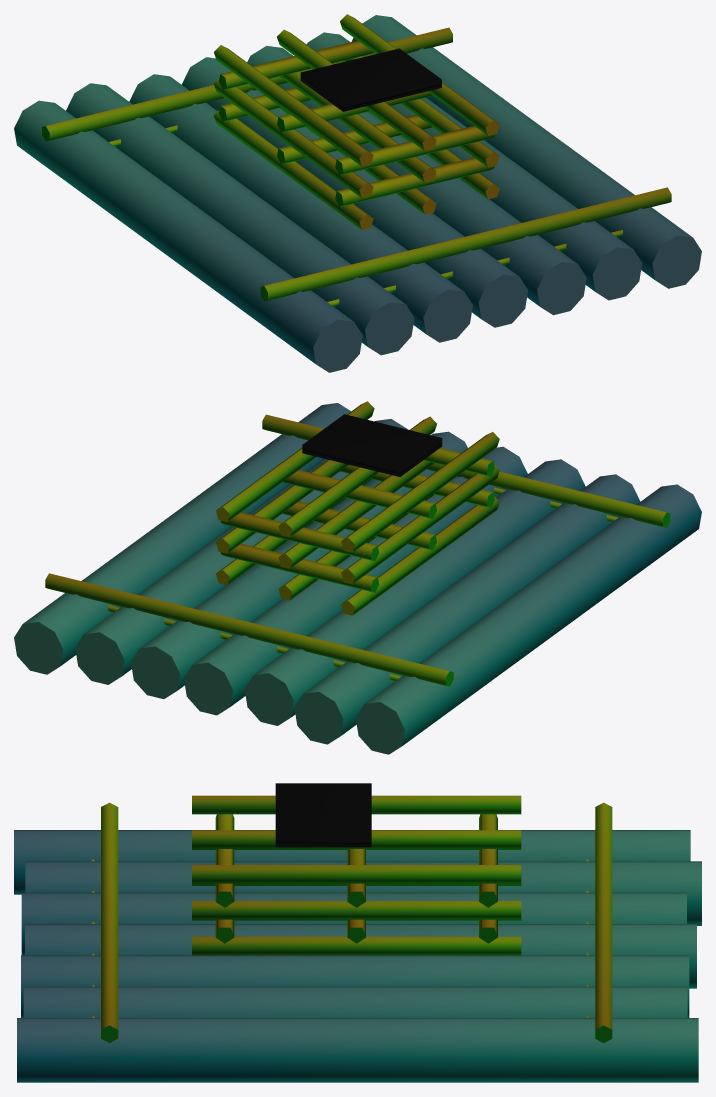
File: pyre_raft.glb
3 views of the same model, one above another, from view 1: azimuth 30°, elevation 25°; view 2: azimuth 150°, elevation 25°; view 3: azimuth 270°, elevation 25° (orthographic). The views are drawn at different scales.
Visible parts, largest first — view 1: pyre_raft; view 2: pyre_raft; view 3: pyre_raft.
Part boxes in pixels (<box>): pyre_raft: <box>14,14,701,372</box>; pyre_raft: <box>14,401,701,754</box>; pyre_raft: <box>14,783,701,1082</box>.
Size of what is drawn, in the model's own units: 3.2 by 1.16 by 4.18.
